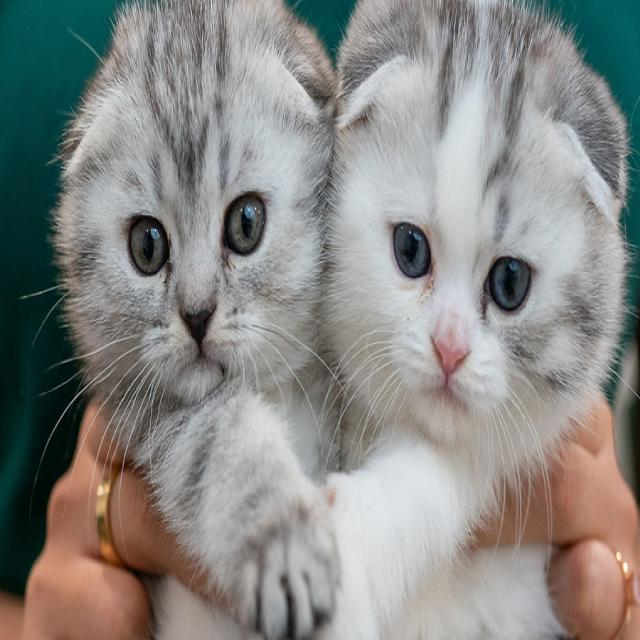Scottish Fold: (324, 0, 632, 640), (50, 0, 335, 640)
